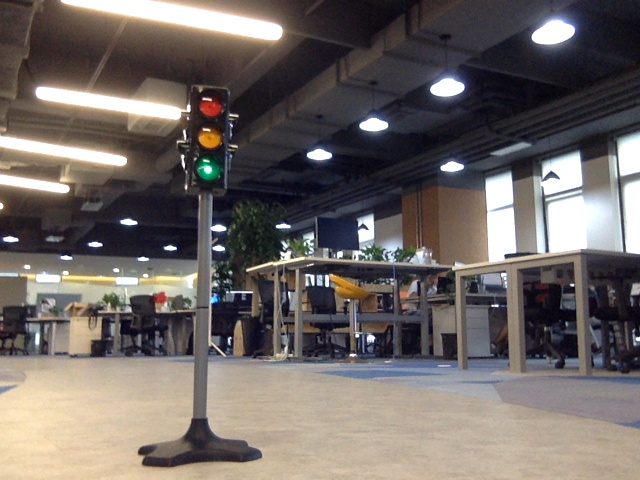green: (194, 91, 223, 185)
